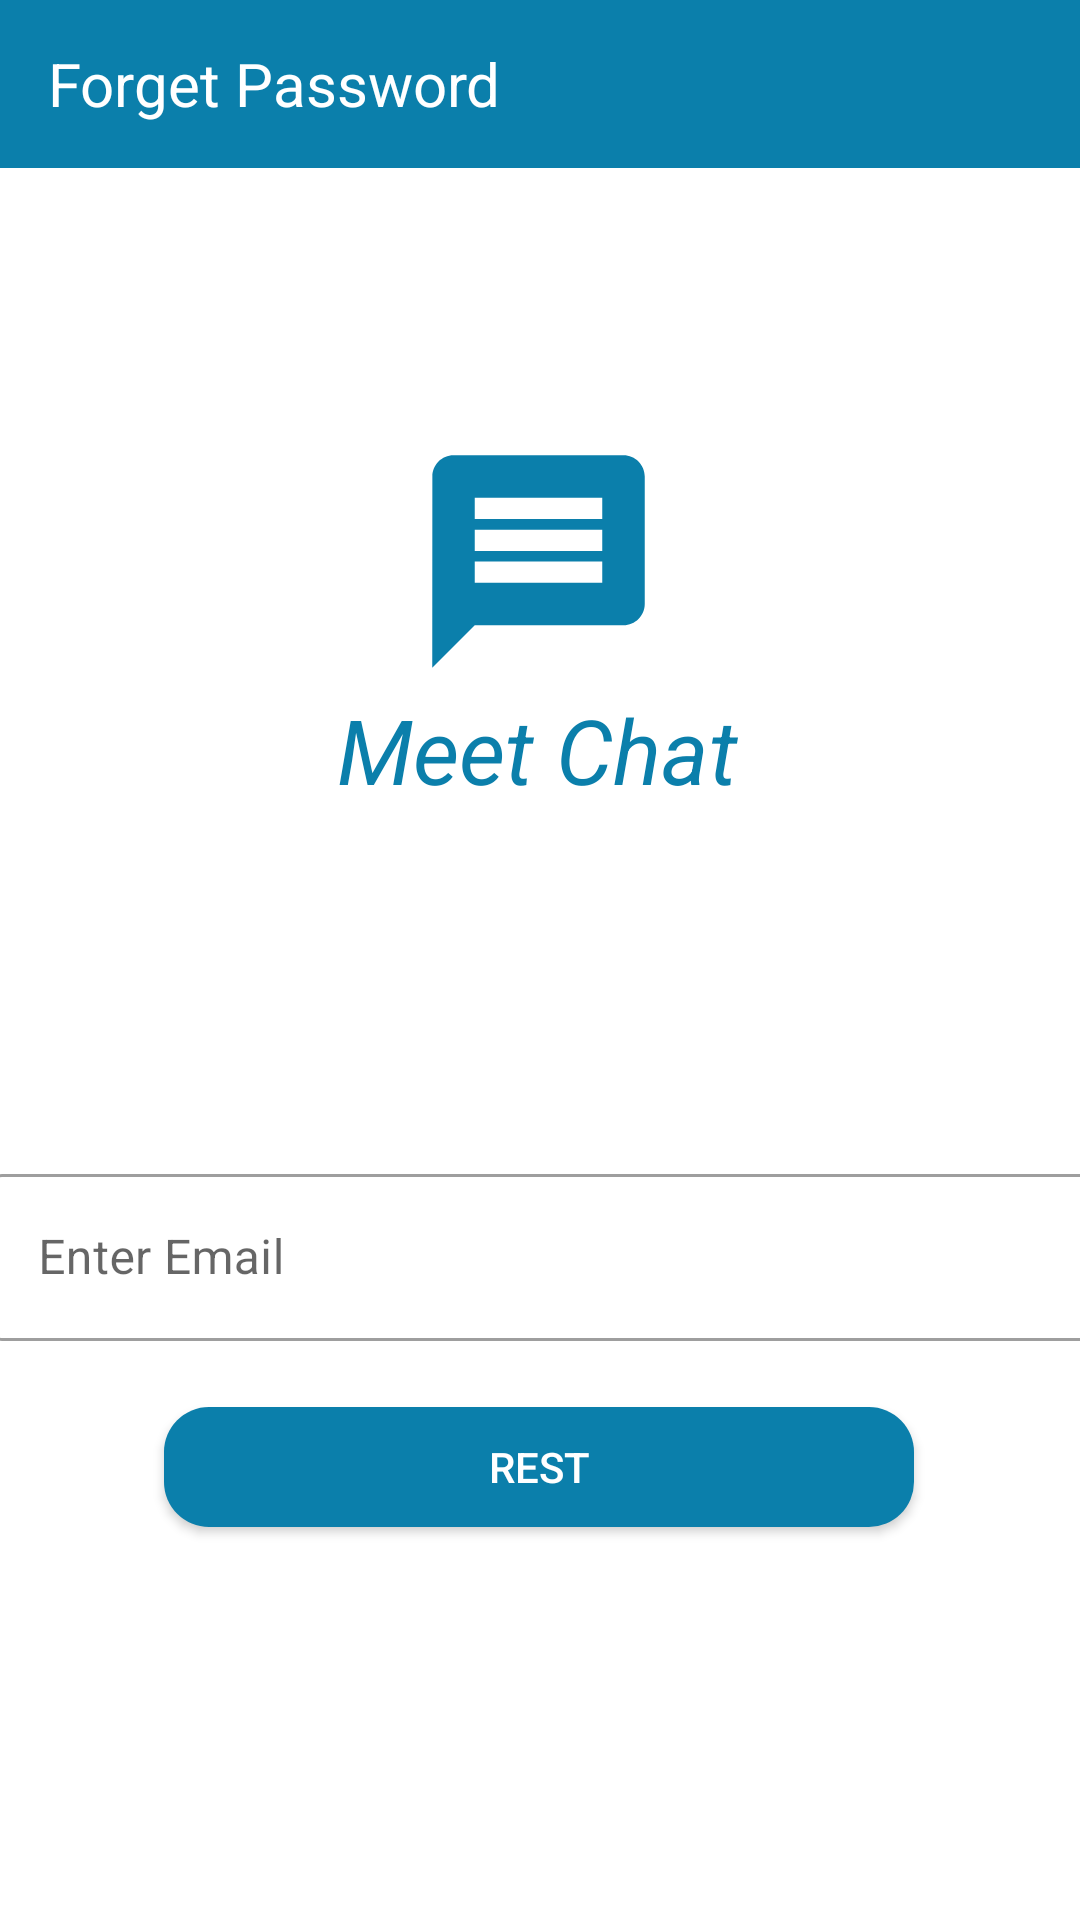

Icons on this 1080*1920 Android screen, each with the point to tap as [x,y]:
message register: [538,561]
